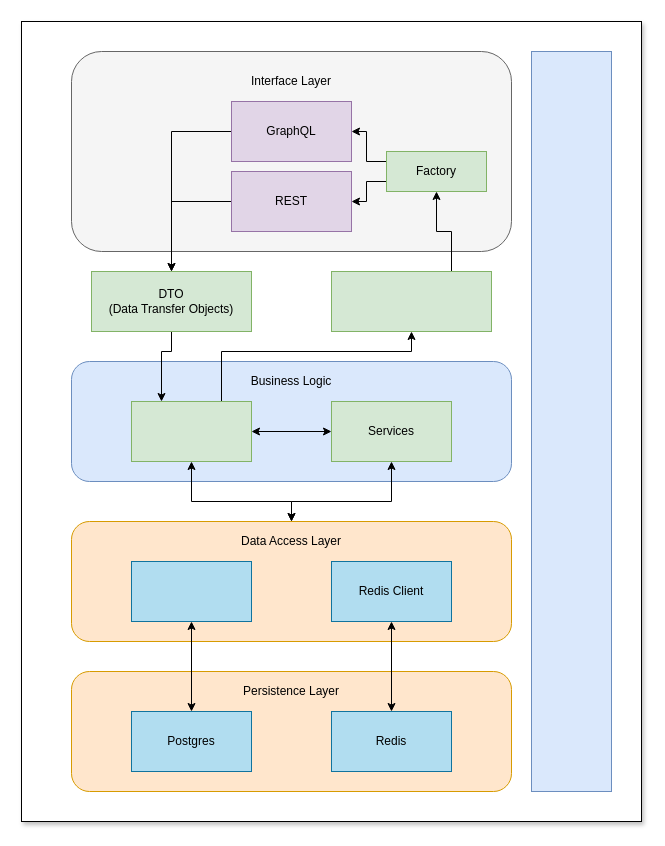
Image size: 665x846. Some labels were removed from this diagram. The centre of each missing label's shape, as x and y in pixels:
"ObjectionJS (SQL ORM)" belongs at (191,591).
"ObjectionJS Models" belongs at (571,421).
"Use Case Result" belongs at (411,301).
"Use Cases" belongs at (191,431).
